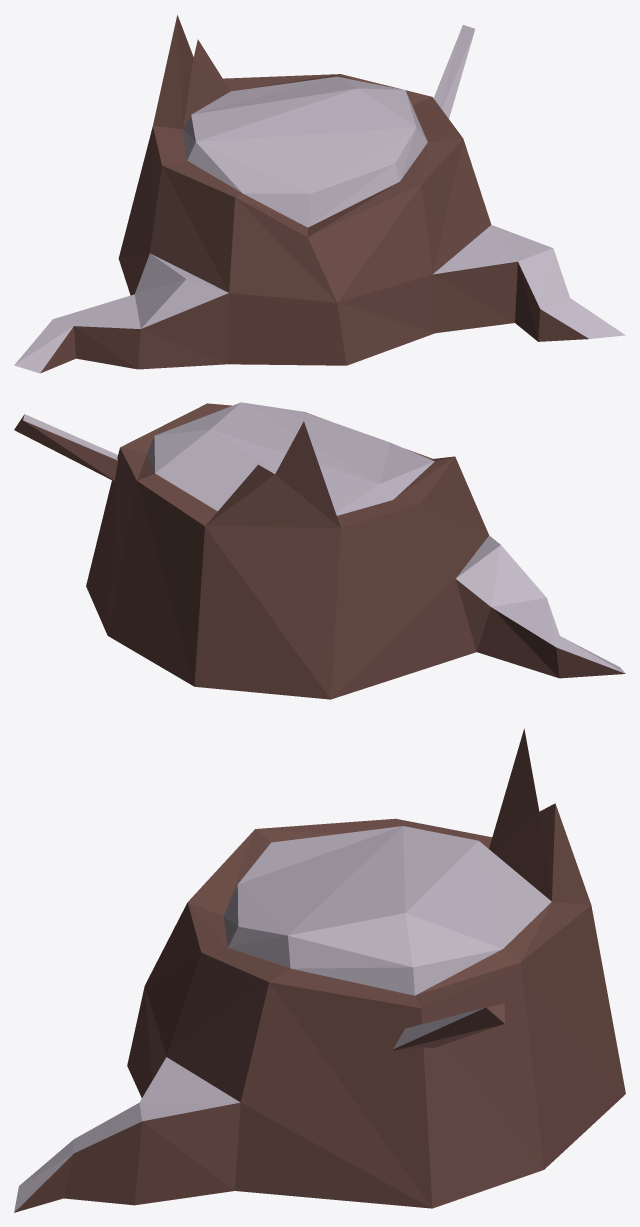
Rendered from TreeStump_Snow.lod1.glb.
The picture shows the model from 3 angles, top to bottom: view 1: azimuth 30°, elevation 25°; view 2: azimuth 150°, elevation 25°; view 3: azimuth 270°, elevation 25°; orthographic projection. The views are drawn at different scales.
Parts seen in each view (by area): view 1: TreeStump_Snow; view 2: TreeStump_Snow; view 3: TreeStump_Snow.
Boxes of the visible parts, x1,y1,x2,y2 form: TreeStump_Snow: [14, 15, 625, 373]; TreeStump_Snow: [14, 402, 625, 699]; TreeStump_Snow: [14, 729, 625, 1212].
Size of the model in its own units: 1.36 by 0.6121 by 1.04.
